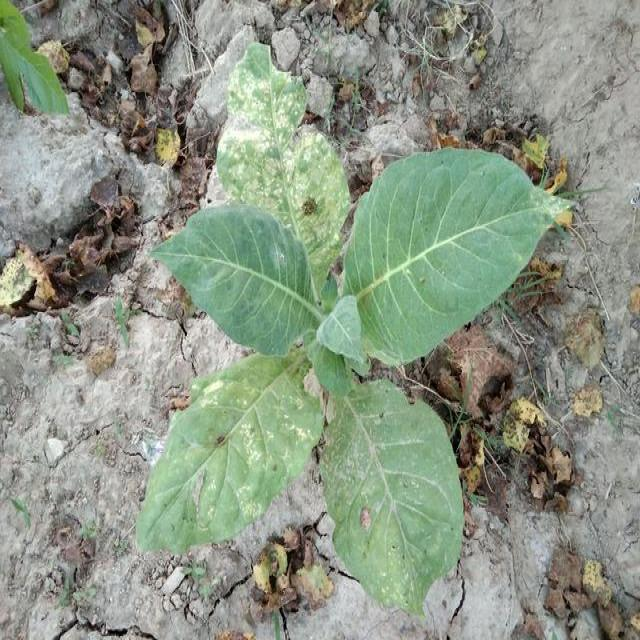crop: (130, 52, 550, 596)
